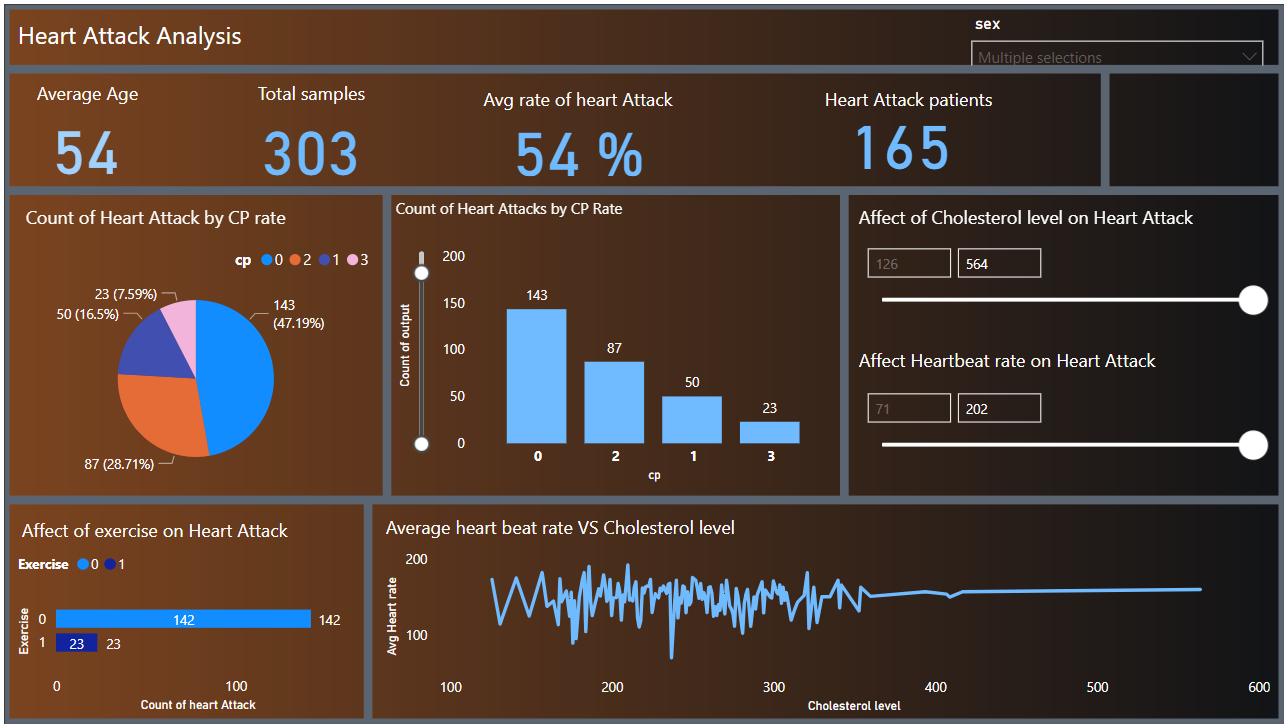

The page's visual inventory and layout, read from the dashboard file:
{"tool":"powerbi","page":{"name":"Page 1","canvas":[1280,720],"ordinal":0},"visuals":[{"type":"textbox","box":[94,49.7,594.1,47],"z":0},{"type":"slicer","fields":{"Values":["heart.sex"]},"box":[934.6,47,279.3,49.7],"z":1},{"type":"textbox","box":[110.8,105.5,125.9,42.6],"z":2},{"type":"card","fields":{"Values":["Avg(heart.age)"]},"box":[94,126.8,129.5,82.5],"z":3},{"type":"card","fields":{"Values":["CountNonNull(heart.output)"]},"box":[289.1,135.7,140.1,64.7],"z":4},{"type":"textbox","box":[298.8,105.5,121.5,42.6],"z":5},{"type":"textbox","box":[497.4,110.8,196.8,39],"z":6},{"type":"card","fields":{"Values":["heart.Measure"]},"box":[520.5,138.3,149.9,62.1],"z":7},{"type":"clusteredColumnChart","fields":{"Category":["heart.cp"],"Y":["CountNonNull(heart.output)"]},"box":[429.2,249.2,398.1,221.7],"z":8},{"type":"textbox","box":[429.2,210.1,235.9,39],"z":9},{"type":"pieChart","fields":{"Y":["CountNonNull(heart.cp)"],"Category":["heart.cp"]},"box":[94,249.2,326.3,221.7],"z":10},{"type":"textbox","box":[101.1,215.5,298.8,33.7],"z":11},{"type":"slicer","fields":{"Values":["heart.chol"]},"box":[839.7,249.2,375.1,74.5],"z":12},{"type":"textbox","box":[839.7,215.5,322.8,33.7],"z":13},{"type":"textbox","box":[839.7,342.3,344.9,35.5],"z":14},{"type":"slicer","fields":{"Values":["heart.thalachh"]},"box":[839.7,377.7,375.1,87.8],"z":15},{"type":"textbox","box":[809.6,110.8,191.5,34.6],"z":16},{"type":"card","fields":{"Values":["heart.output for 1"]},"box":[783,145.4,197.7,55],"z":17},{"type":"lineChart","fields":{"Category":["heart.chol"],"Y":["Avg(heart.thalachh)"]},"box":[420.3,520.5,793.6,155.2],"z":18},{"type":"barChart","fields":{"Series":["heart.exng"],"Category":["heart.exng"],"Y":["Sum(heart.output)"]},"box":[94,519.6,305.9,155.2],"z":19},{"type":"textbox","box":[97.5,493,299.7,35.5],"z":20},{"type":"textbox","box":[420.3,490.3,376.8,38.1],"z":21}]}

Visuals, with their boxes in screenshot pixels (x1, y1, x2, y2), scaled from the page's 1280x720 canvas onto the 1287x727 screenshot:
textbox: BBox(95, 50, 692, 98)
slicer - heart.sex: BBox(940, 47, 1221, 98)
textbox: BBox(111, 107, 238, 150)
card - Avg(heart.age): BBox(95, 128, 225, 211)
card - CountNonNull(heart.output): BBox(291, 137, 432, 202)
textbox: BBox(300, 107, 423, 150)
textbox: BBox(500, 112, 698, 151)
card - heart.Measure: BBox(523, 140, 674, 202)
clusteredColumnChart - heart.cp x CountNonNull(heart.output): BBox(432, 252, 832, 475)
textbox: BBox(432, 212, 669, 252)
pieChart - CountNonNull(heart.cp) x heart.cp: BBox(95, 252, 423, 475)
textbox: BBox(102, 218, 402, 252)
slicer - heart.chol: BBox(844, 252, 1221, 327)
textbox: BBox(844, 218, 1169, 252)
textbox: BBox(844, 346, 1191, 381)
slicer - heart.thalachh: BBox(844, 381, 1221, 470)
textbox: BBox(814, 112, 1007, 147)
card - heart.output for 1: BBox(787, 147, 986, 202)
lineChart - heart.chol x Avg(heart.thalachh): BBox(423, 526, 1221, 682)
barChart - heart.exng x heart.exng: BBox(95, 525, 402, 681)
textbox: BBox(98, 498, 399, 534)
textbox: BBox(423, 495, 801, 534)
